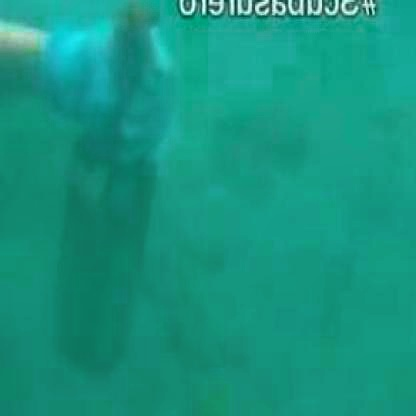gbottle: (70, 25, 175, 385)
